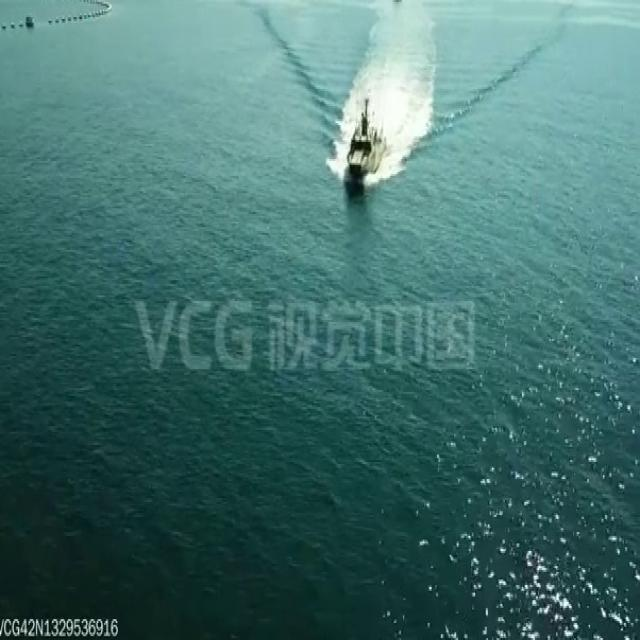houseboat: (338, 90, 388, 188)
